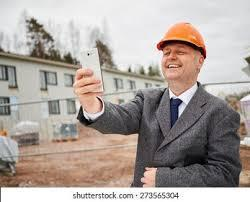helmet: (156, 20, 207, 58)
